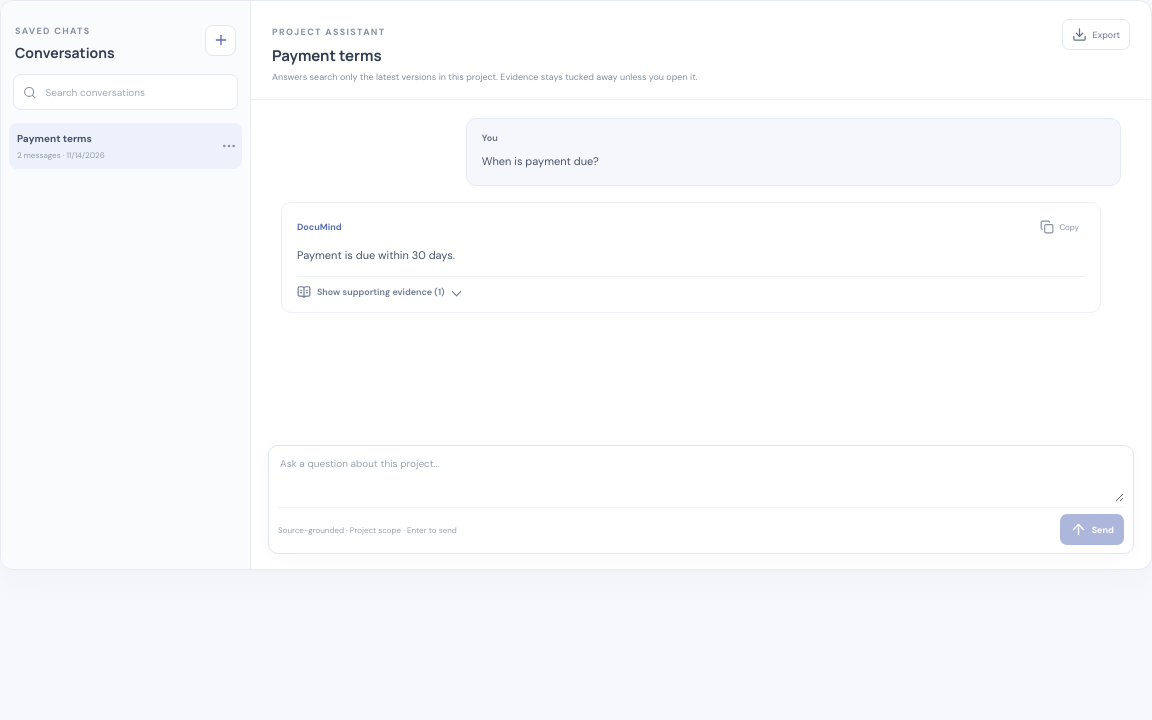
Test: AssistantChat › loads saved messages and keeps evidence in a closed disclosure by default
Expected: the heading "Payment terms" is shown, x1=272 y1=45 x2=382 y2=66
Expected: the text "Payment is due within 30 days." is shown, x1=297 y1=248 x2=455 y2=262
What coordinates should you click on to do the following:
click the heading "Show supporting evidence (1)"
I would click on:
 (371, 292)
Its box is x1=297 y1=284 x2=445 y2=298.
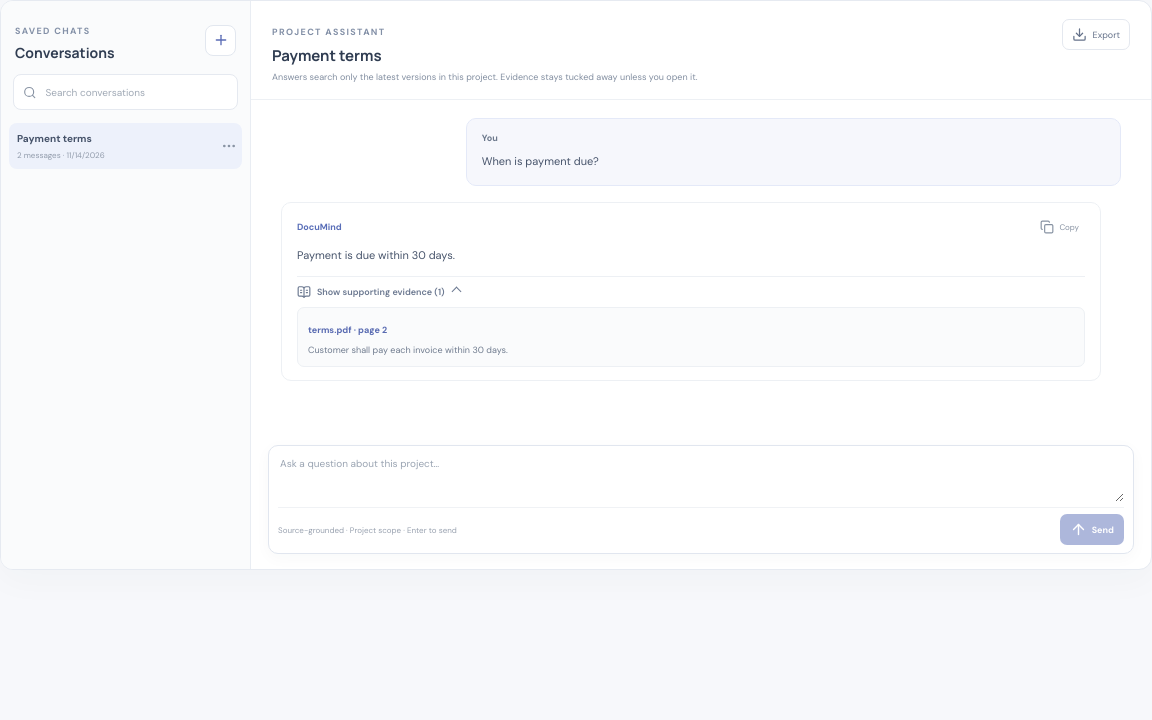
Expected: the text "Customer shall pay each invoice within 30 days." is shown, x1=308 y1=344 x2=508 y2=356
